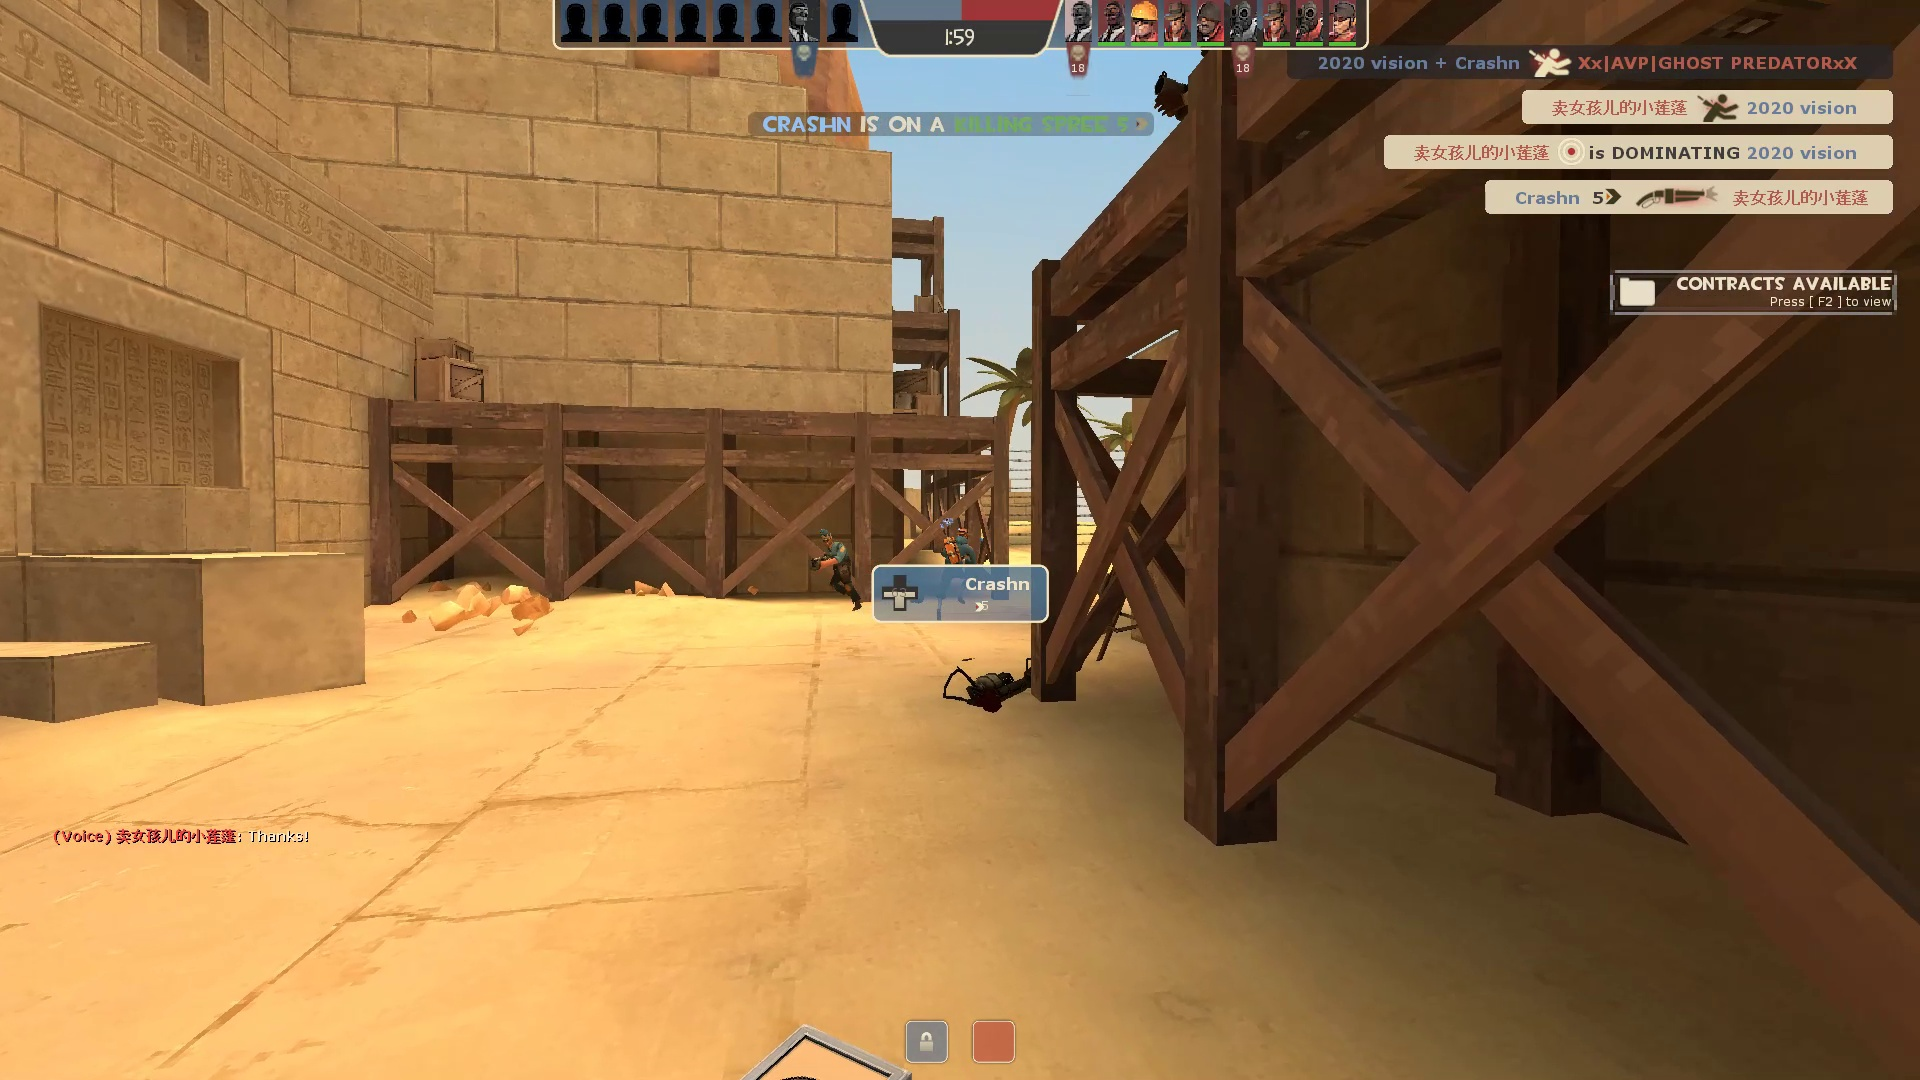blu_engineer: (806, 525, 878, 615)
blu_scout: (928, 520, 985, 621)
